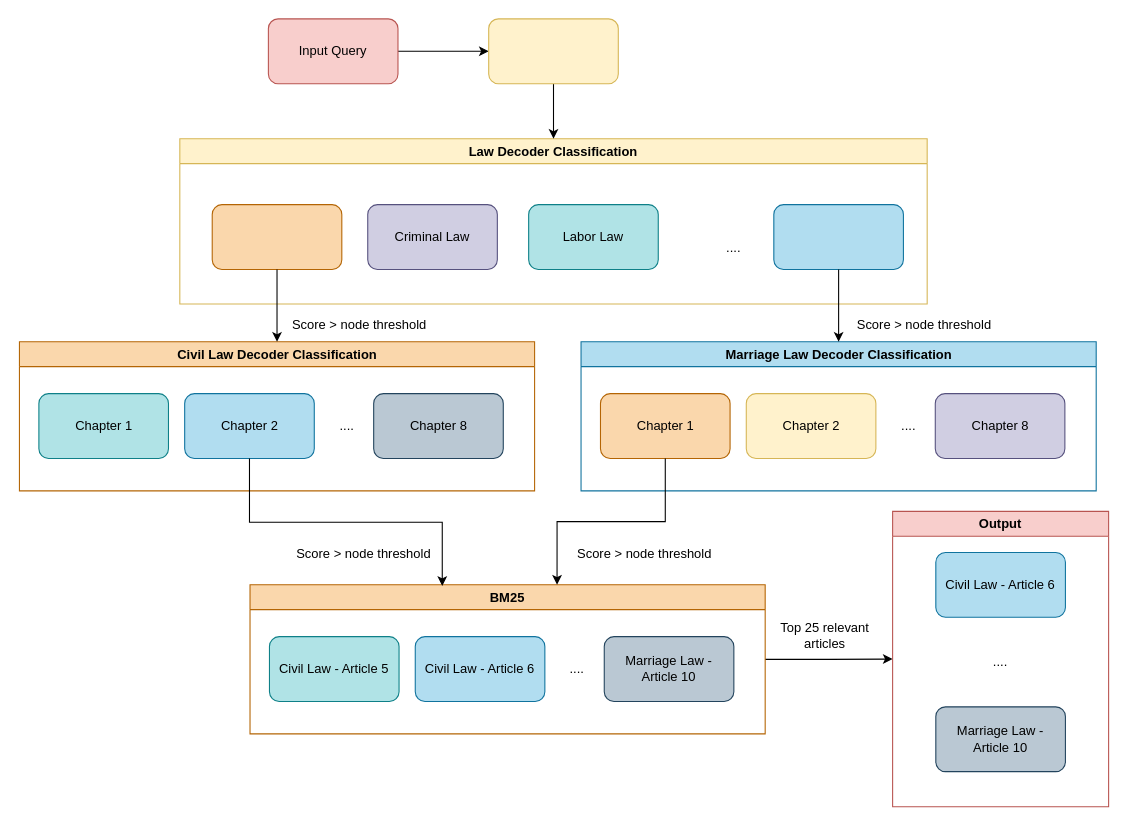
The diagram is 1128 pixels wide and 826 high, and some of its shapes have lost their labels. Here are the shapes that lost their labels. From the top down, the centre of each, then its label:
the point at 553,51: Embedding
the point at 276,236: Civil Law
the point at 838,236: Marriage Law
